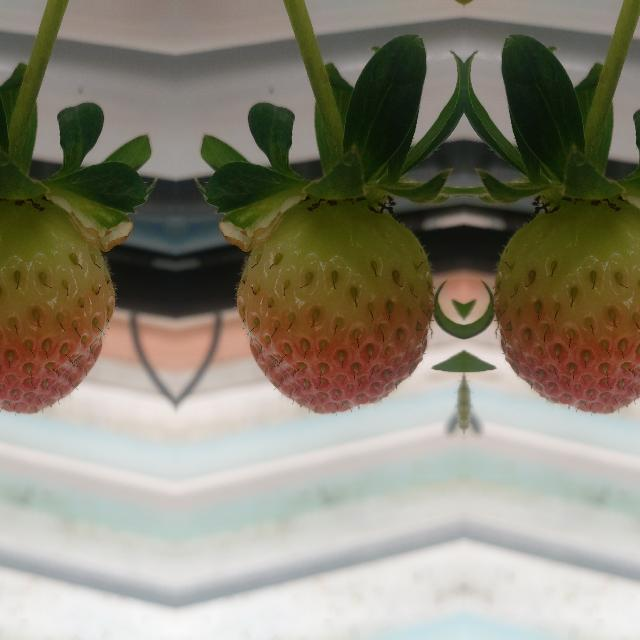Health_75: (235, 200, 432, 414), (493, 200, 640, 413), (0, 200, 114, 413)
